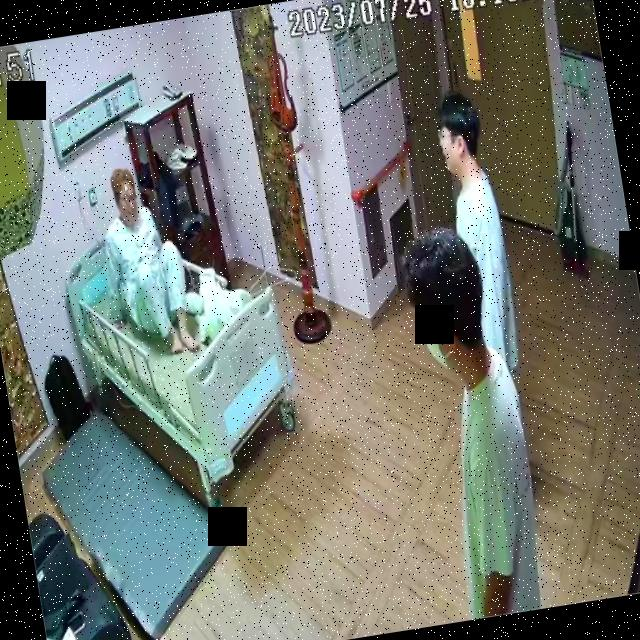bed: (59, 210, 304, 504)
sit: (396, 219, 550, 622), (91, 162, 199, 366)
stand: (398, 219, 552, 622), (432, 86, 524, 376)
